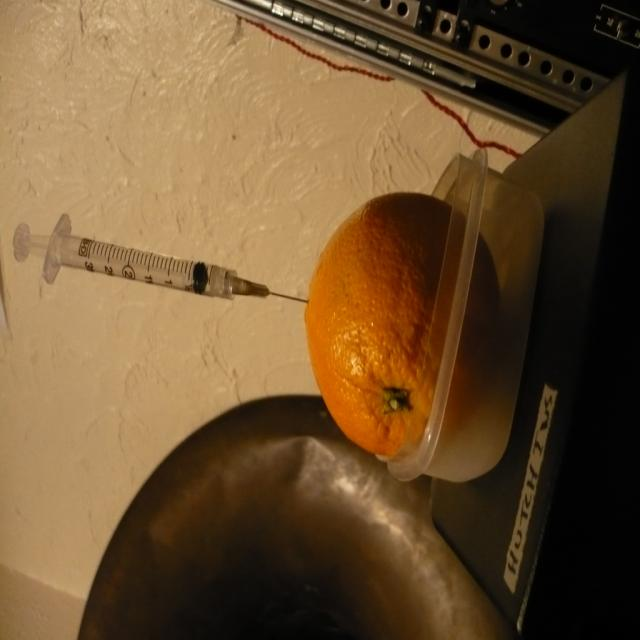Lemon: (304, 193, 503, 451)
